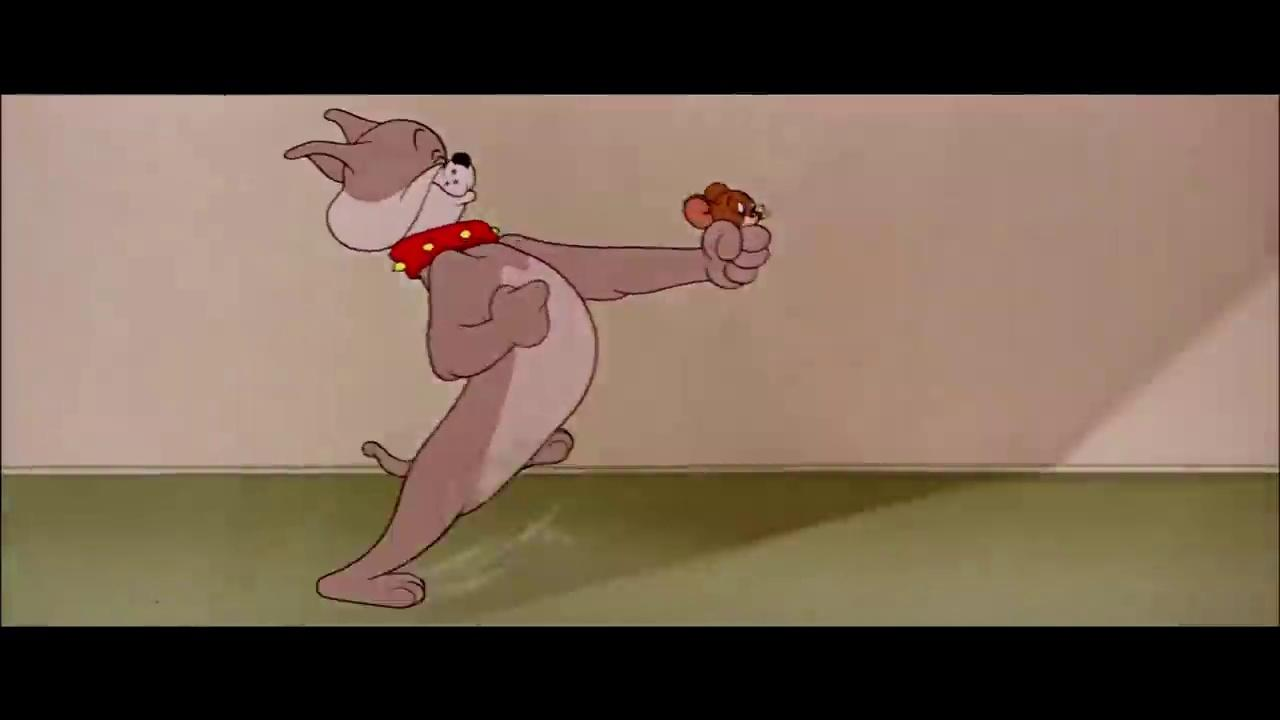Jerry: (678, 173, 769, 234)
